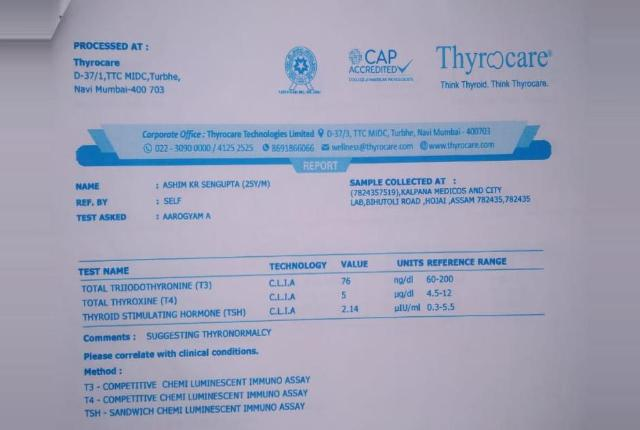Clinical_Conditions: (77, 376, 318, 421)
Name: (162, 178, 274, 189)
Ref_By: (161, 194, 186, 206)
Reference_Range: (425, 272, 459, 316)
Technology: (268, 274, 302, 321)
Test_Asked: (162, 209, 216, 223)
Test_Name: (78, 278, 254, 325)
Unit: (391, 273, 422, 317)
Value: (338, 274, 366, 318)
